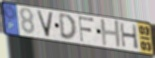8: (18, 7, 37, 37)
D: (57, 13, 78, 42)
F: (77, 16, 95, 43)
H: (99, 19, 123, 48), (119, 22, 140, 51)
V: (35, 9, 55, 38)
